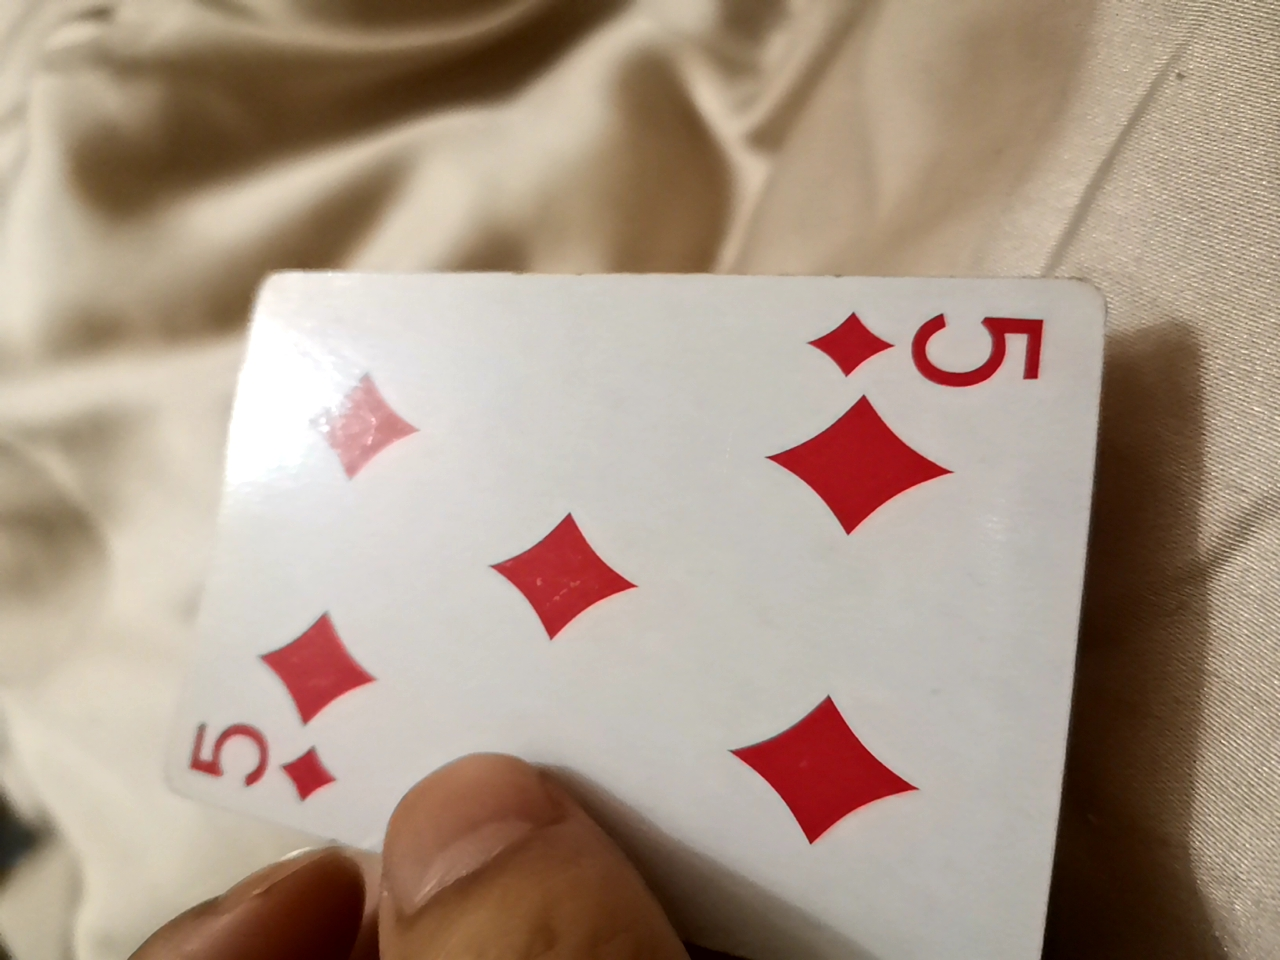fk 5: (218, 256, 1080, 954)
